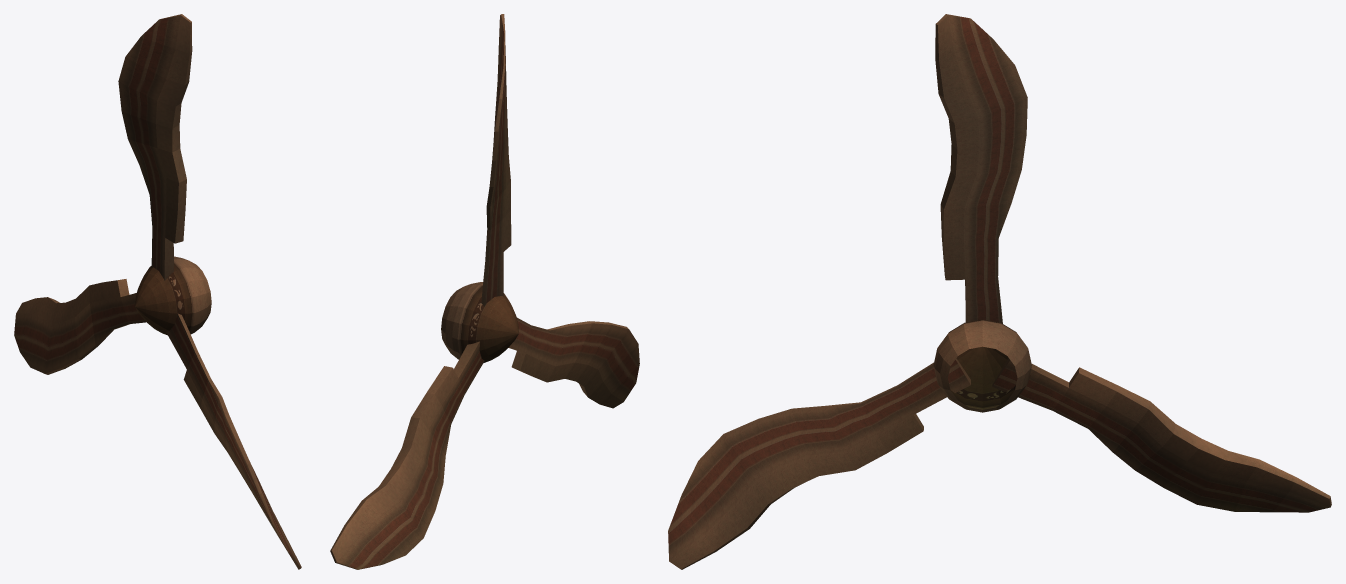
File: turbineblade.glb
3 views of the same model, side by side, from view 1: azimuth 30°, elevation 25°; view 2: azimuth 150°, elevation 25°; view 3: azimuth 270°, elevation 25° (orthographic). The views are drawn at different scales.
Visible parts, largest first — view 1: turbineblade; view 2: turbineblade; view 3: turbineblade.
Part boxes in pixels (<box>): turbineblade: <box>14,14,301,569</box>; turbineblade: <box>330,14,639,569</box>; turbineblade: <box>668,14,1331,569</box>.
Size of the model in its own units: 6.28 by 45.89 by 49.94.
4 materials, 4 textured.
